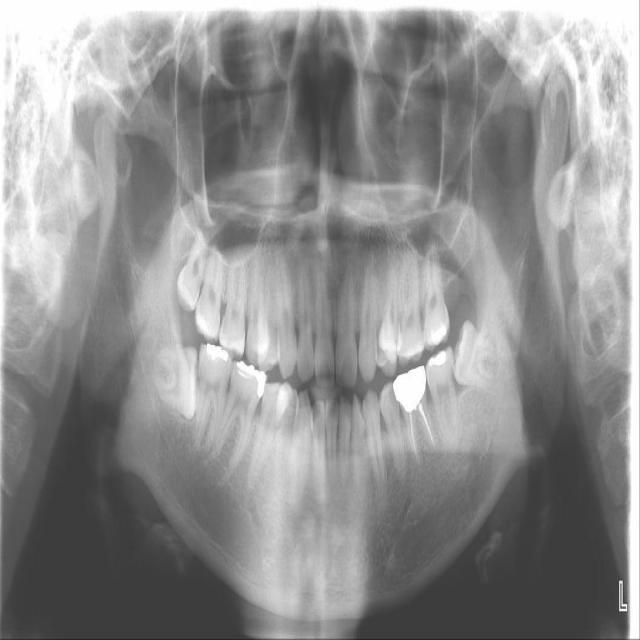3M ESPE Implant: (171, 230, 212, 314)
52: (190, 341, 237, 394), (389, 364, 434, 415), (224, 358, 269, 406), (420, 344, 461, 395), (423, 300, 450, 353)
73: (395, 386, 446, 466), (598, 586, 606, 598)
BioHorizons Implant: (423, 244, 452, 354)
Biomet 3i Implant: (447, 318, 503, 391)
Blue Sky Bio Implant: (422, 344, 461, 448)
Caries: (192, 249, 226, 344)
Implant: (192, 342, 235, 451)
Keystone Dental Implant: (154, 345, 201, 421)
